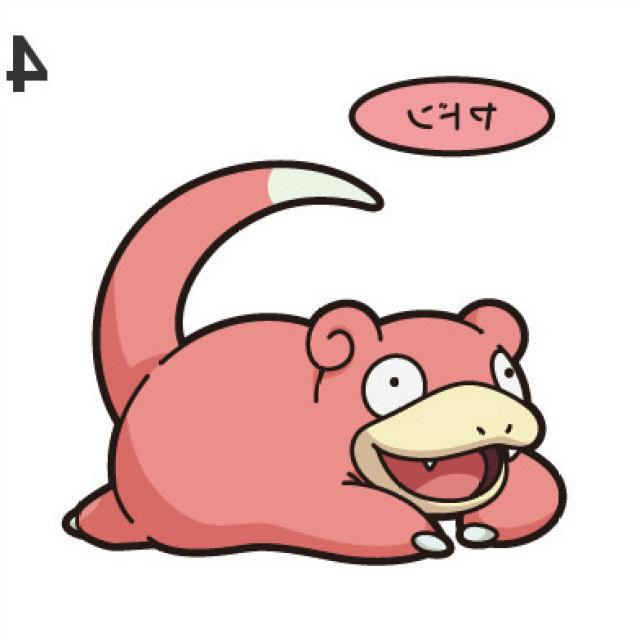Slowpoke: (72, 275, 568, 557)
